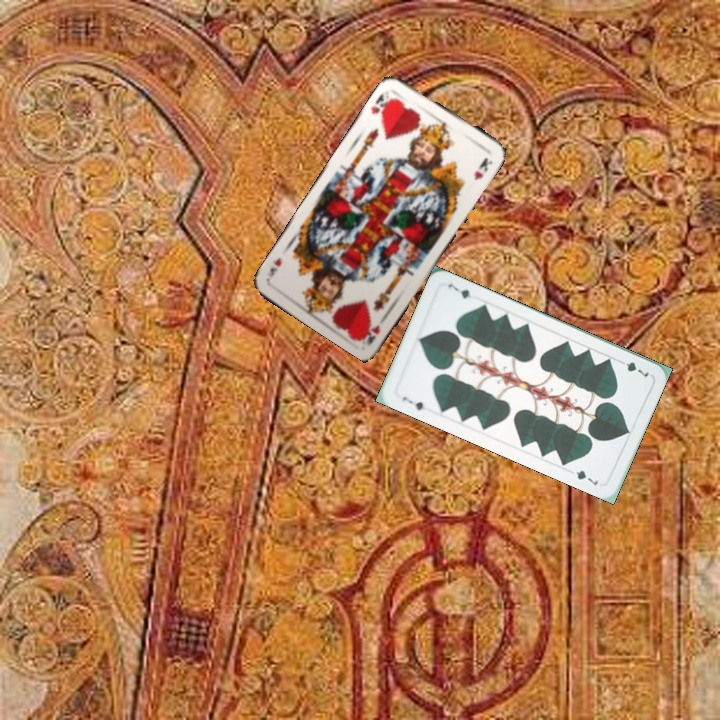G7: (614, 355, 652, 379), (398, 393, 427, 413)
HK: (367, 89, 395, 122), (361, 321, 383, 347)
